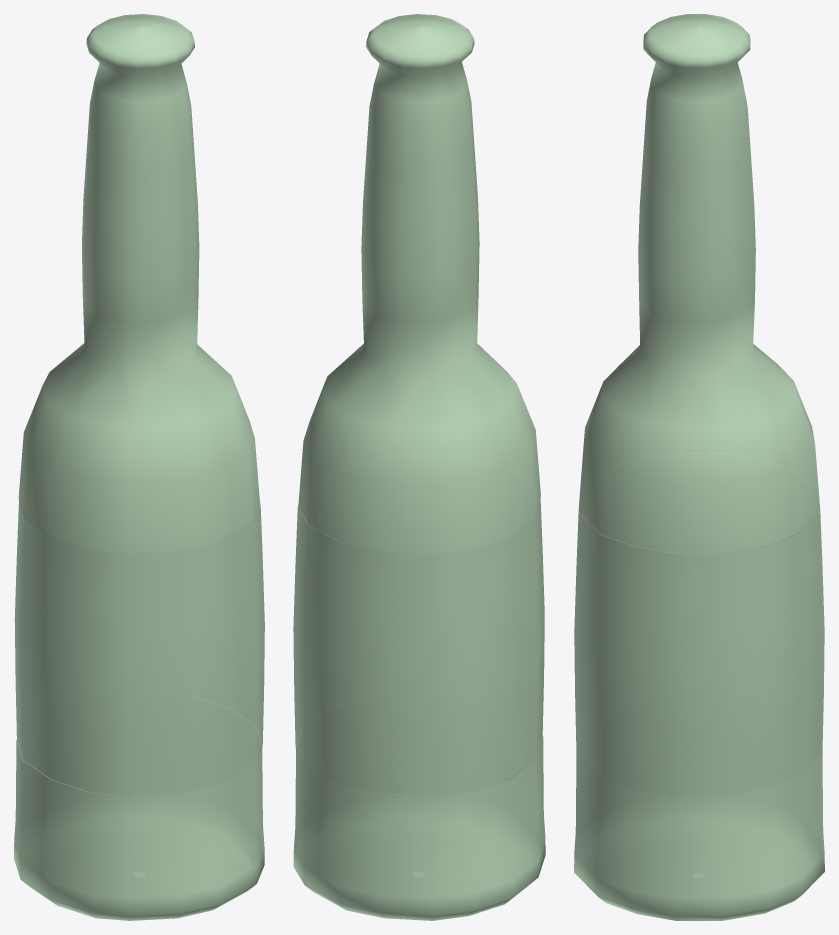
File: bottle_wine.fbx
3 renders of one model, left to right at view 1: azimuth 30°, elevation 25°; view 2: azimuth 150°, elevation 25°; view 3: azimuth 270°, elevation 25°, orthographic.
Parts seen in each view (by area): view 1: nurbsToPoly1, nurbsToPoly2; view 2: nurbsToPoly1, nurbsToPoly2; view 3: nurbsToPoly1, nurbsToPoly2.
Boxes of the visible parts, bbox=[...] form: nurbsToPoly1: bbox=[14, 14, 264, 920]; nurbsToPoly2: bbox=[14, 452, 264, 795]; nurbsToPoly1: bbox=[293, 14, 545, 920]; nurbsToPoly2: bbox=[293, 452, 544, 796]; nurbsToPoly1: bbox=[574, 14, 824, 920]; nurbsToPoly2: bbox=[574, 454, 824, 796].
Bounding box in the file's own units: 0.9627 × 3.66 × 0.9797.
